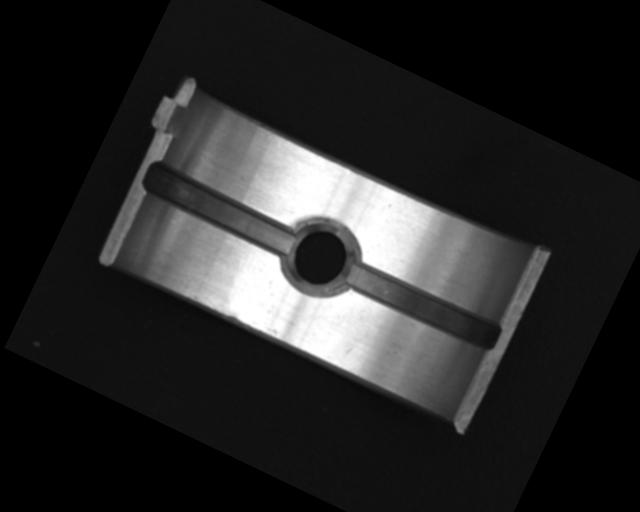gap: (337, 251, 506, 357), (137, 158, 301, 261)
hole: (272, 208, 370, 308)
